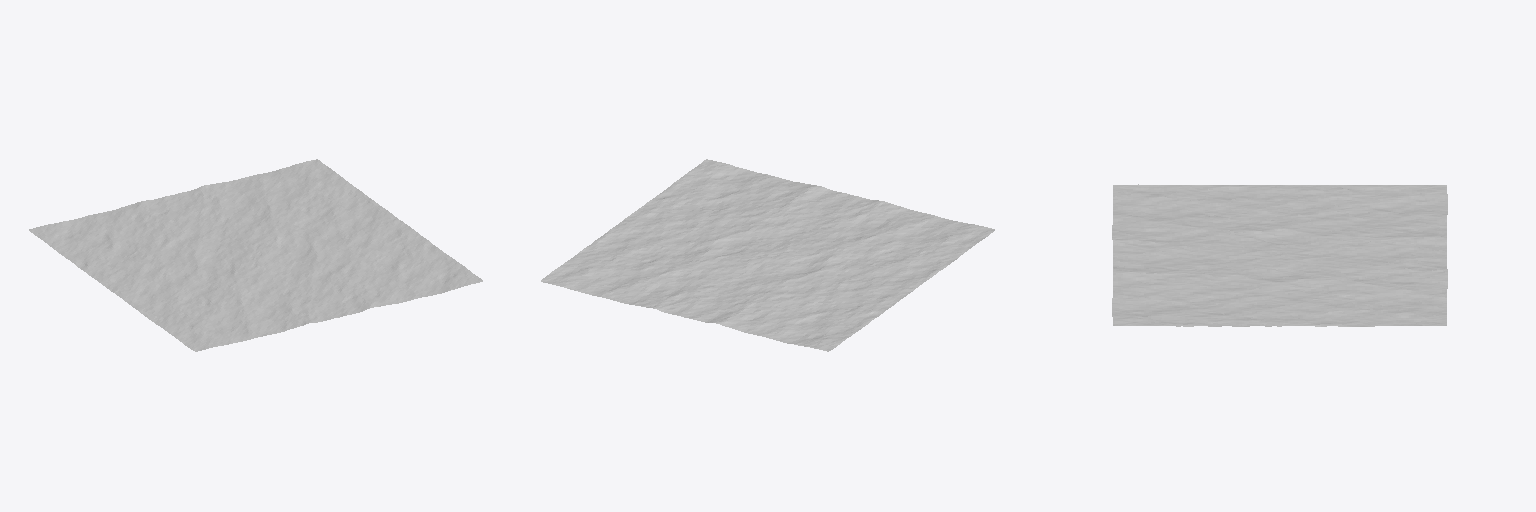
Rendered from sea_000042.obj.
The picture shows the model from 3 angles: view 1: azimuth 30°, elevation 25°; view 2: azimuth 150°, elevation 25°; view 3: azimuth 270°, elevation 25°; orthographic projection.
Visible parts, largest first — view 1: Plane; view 2: Plane; view 3: Plane.
Boxes of the visible parts, box(x1,y1,x2,y2) form: Plane: box(29, 159, 482, 351); Plane: box(541, 159, 994, 351); Plane: box(1112, 184, 1447, 326).
Size of the model in its own units: 200 by 2.05 by 201.